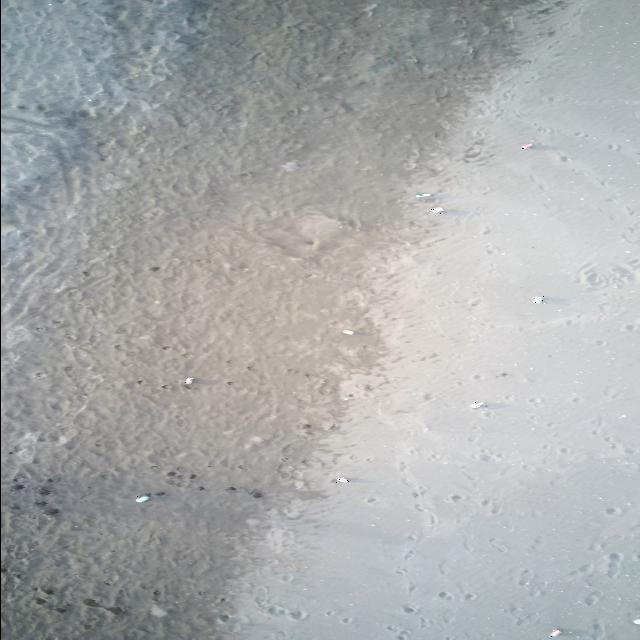Garbage: (151, 604, 167, 615), (248, 488, 263, 497), (470, 400, 486, 407), (548, 628, 560, 636), (136, 495, 149, 502), (416, 192, 431, 198), (334, 476, 348, 482), (183, 376, 193, 384), (533, 296, 544, 303), (430, 207, 443, 212), (344, 328, 353, 335), (520, 143, 532, 148), (632, 617, 639, 624)
